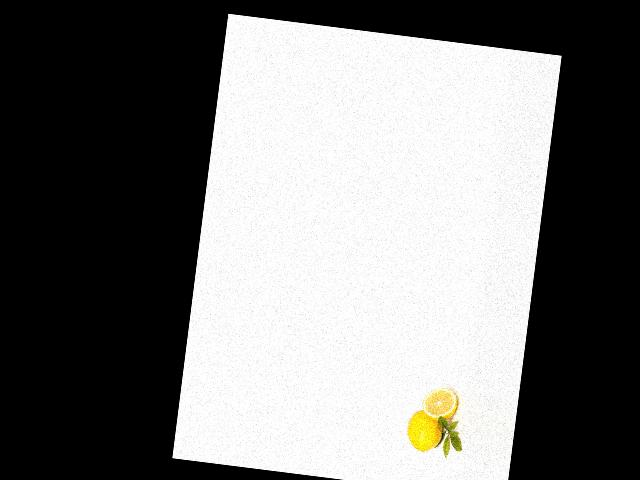lemon: (402, 408, 443, 458)
